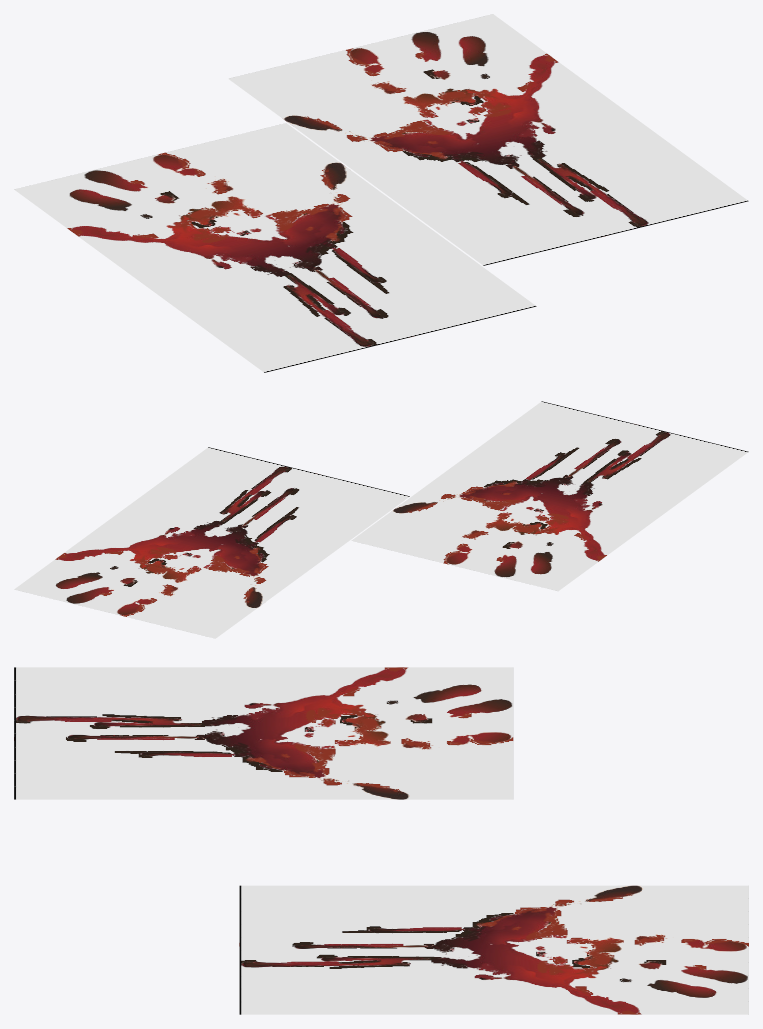
The model's file is main_sang.fbx.
3 renders of one model, top to bottom at view 1: azimuth 30°, elevation 25°; view 2: azimuth 150°, elevation 25°; view 3: azimuth 270°, elevation 25°, orthographic. The views are drawn at different scales.
Parts seen in each view (by area): view 1: pasted__main02, pasted__main01; view 2: pasted__main02, pasted__main01; view 3: pasted__main02, pasted__main01.
Part boxes in pixels (<box>): pasted__main02: <box>14,123,536,372</box>; pasted__main01: <box>228,14,748,265</box>; pasted__main02: <box>351,401,748,591</box>; pasted__main01: <box>14,447,409,638</box>; pasted__main02: <box>14,667,513,799</box>; pasted__main01: <box>239,885,748,1014</box>.
Bounding box in the file's own units: 41.25 × 3.75 × 44.11.
Materials: 2 (2 with a texture image).
